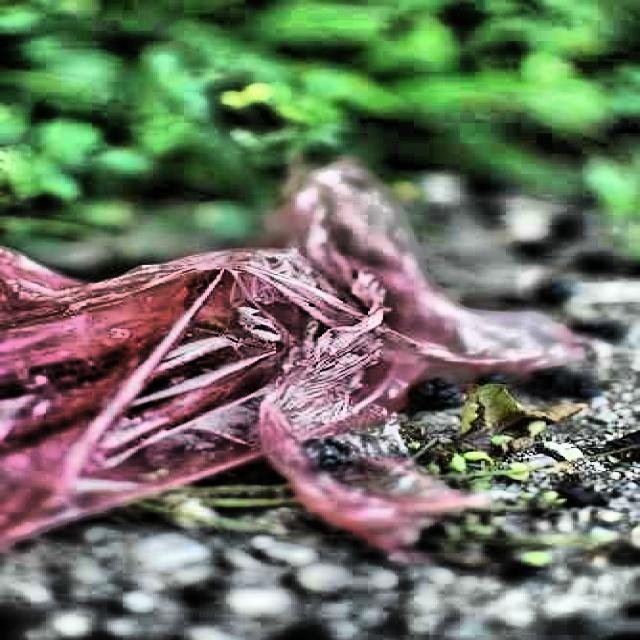Plastic: (0, 144, 559, 533)
